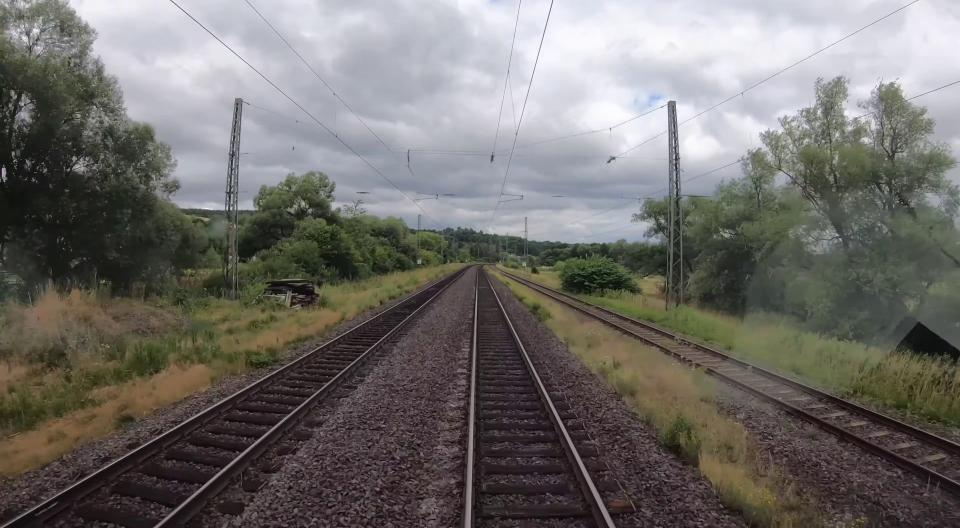Plant: (496, 273, 830, 528), (244, 347, 280, 369)
